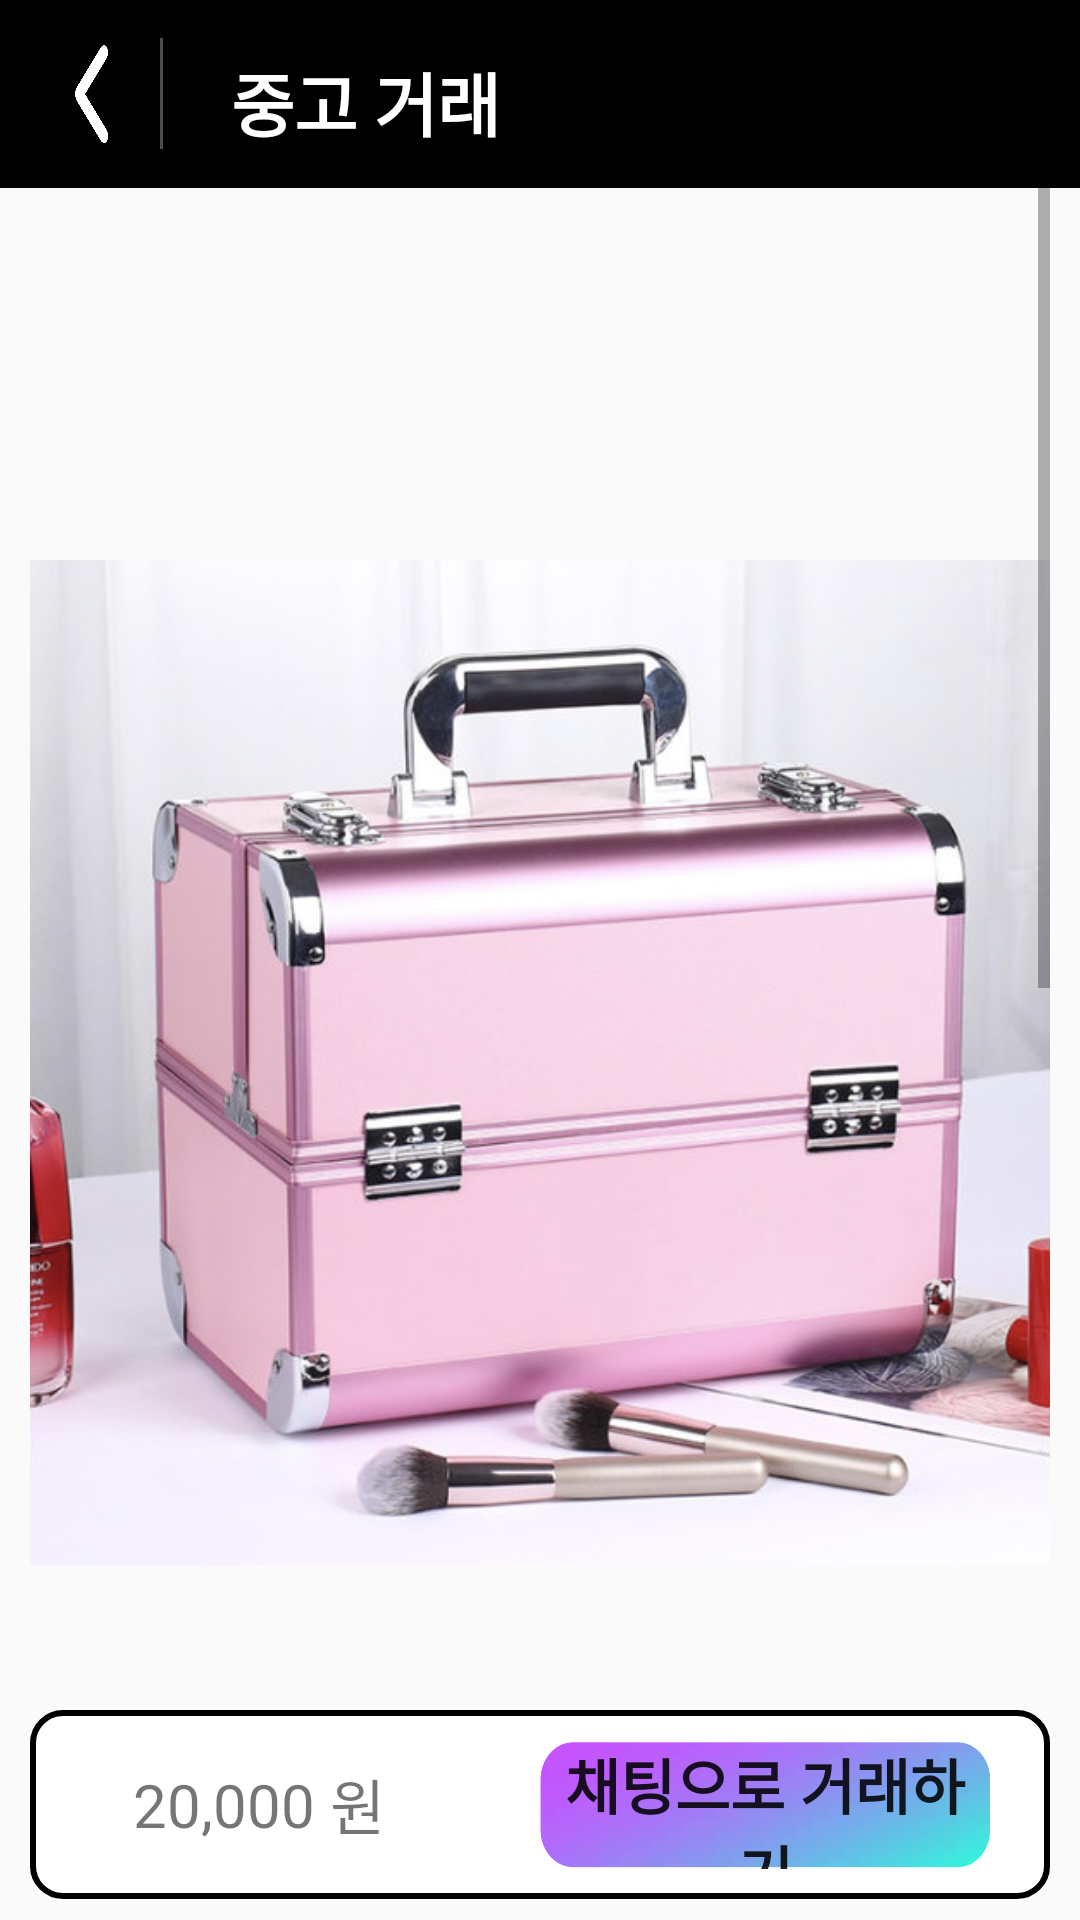

Where to tap for icons on this 1080*1920 app screen, as (x=x, y=y):
leftarrow: (x=91, y=94)
